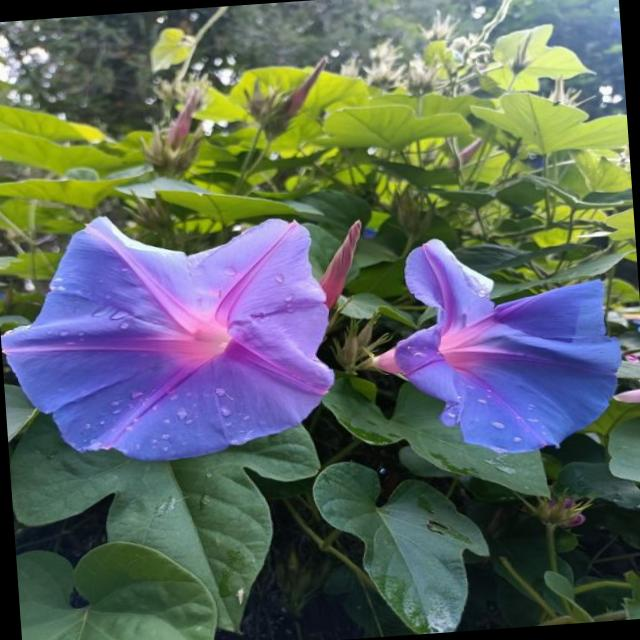ipomoea: (0, 198, 348, 474), (362, 223, 630, 466)
